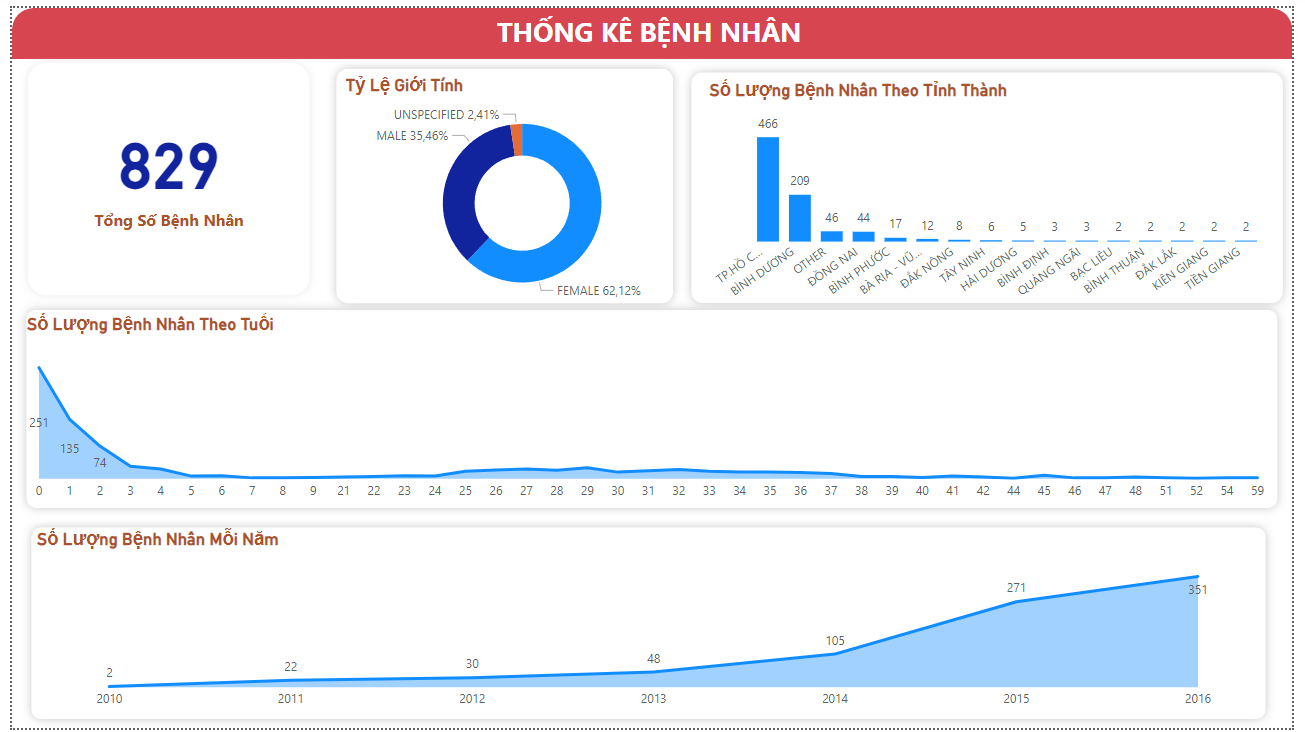

This screenshot's page, from the dashboard's own definition file:
{"tool":"powerbi","page":{"name":"Patient_Dashboard","canvas":[1280,720],"ordinal":1},"visuals":[{"type":"shape","box":[10.5,509.5,1252.8,210.3],"z":0},{"type":"cardVisual","fields":{"Data":["CountNonNull(DimPatient.Patient_ID)"]},"box":[0,39.2,314.8,265.2],"z":1000},{"type":"shape","box":[0,0,1280.3,50.9],"z":2000},{"type":"textbox","box":[479.4,0,360.6,57.5],"z":3000},{"type":"shape","box":[670.2,54.9,610.1,249.5],"z":4000},{"type":"shape","box":[314.8,50.9,355.3,253.4],"z":5000,"group":"g1"},{"type":"shape","box":[5.2,292.6,1269.8,216.9],"z":5000},{"type":"donutChart","title":"Tỷ Lệ Giới Tính","fields":{"Category":["DimPatient.Patient_sex"],"Y":["CountNonNull(DimPatient.Patient_ID)"]},"box":[329.2,65.3,363.2,239],"z":6000,"group":"g1"},{"type":"columnChart","title":"Số Lượng Bệnh Nhân Theo Tỉnh Thành","fields":{"Category":["DimPatient.Patient_province"],"Y":["CountNonNull(DimPatient.Patient_ID)"]},"box":[692.4,71.9,570.9,232.5],"z":6000},{"type":"stackedAreaChart","title":"Số Lượng Bệnh Nhân Theo Tuổi","fields":{"Category":["DimPatient.Patient_age"],"Y":["CountNonNull(DimPatient.Patient_ID)"]},"box":[10.5,304.4,1252.8,196],"z":7000},{"type":"group","id":"g1","title":"Group 1","box":[314.8,50.9,377.5,253.4],"z":8000},{"type":"areaChart","title":"Số Lượng Bệnh Nhân Mỗi Năm","fields":{"Category":["DimPatient.Patient_creation_date.Variation.Date Hierarchy.Year"],"Y":["CountNonNull(DimPatient.Patient_ID)"]},"box":[19.6,519.9,1243.7,189.4],"z":9000}]}

Visuals, with their boxes in screenshot pixels (x1, y1, x2, y2), scaled from the page's 1280x720 canvas onto the 1305x732 screenshot:
shape: [left=11, top=518, right=1288, bottom=731]
cardVisual - CountNonNull(DimPatient.Patient_ID): [left=0, top=40, right=321, bottom=309]
shape: [left=0, top=0, right=1304, bottom=52]
textbox: [left=489, top=0, right=856, bottom=58]
shape: [left=683, top=56, right=1304, bottom=309]
shape: [left=321, top=52, right=683, bottom=309]
shape: [left=5, top=297, right=1300, bottom=518]
"Tỷ Lệ Giới Tính" donutChart: [left=336, top=66, right=706, bottom=309]
"Số Lượng Bệnh Nhân Theo Tỉnh Thành" columnChart: [left=706, top=73, right=1288, bottom=309]
"Số Lượng Bệnh Nhân Theo Tuổi" stackedAreaChart: [left=11, top=309, right=1288, bottom=509]
"Group 1" group: [left=321, top=52, right=706, bottom=309]
"Số Lượng Bệnh Nhân Mỗi Năm" areaChart: [left=20, top=529, right=1288, bottom=721]
